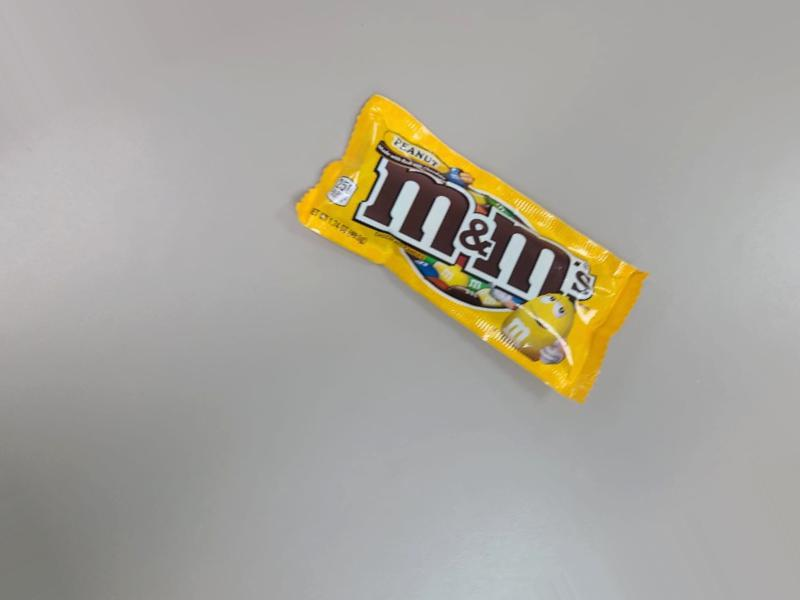m&m: (327, 83, 645, 407)
